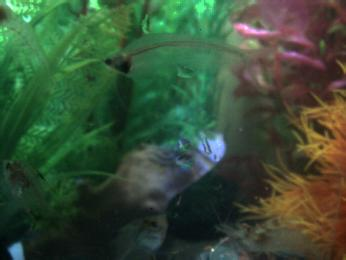X-ray fish: (1, 156, 61, 225), (105, 212, 170, 260)
glassfish: (100, 30, 270, 87)
siberian prawn: (216, 221, 332, 260), (1, 1, 54, 79)
